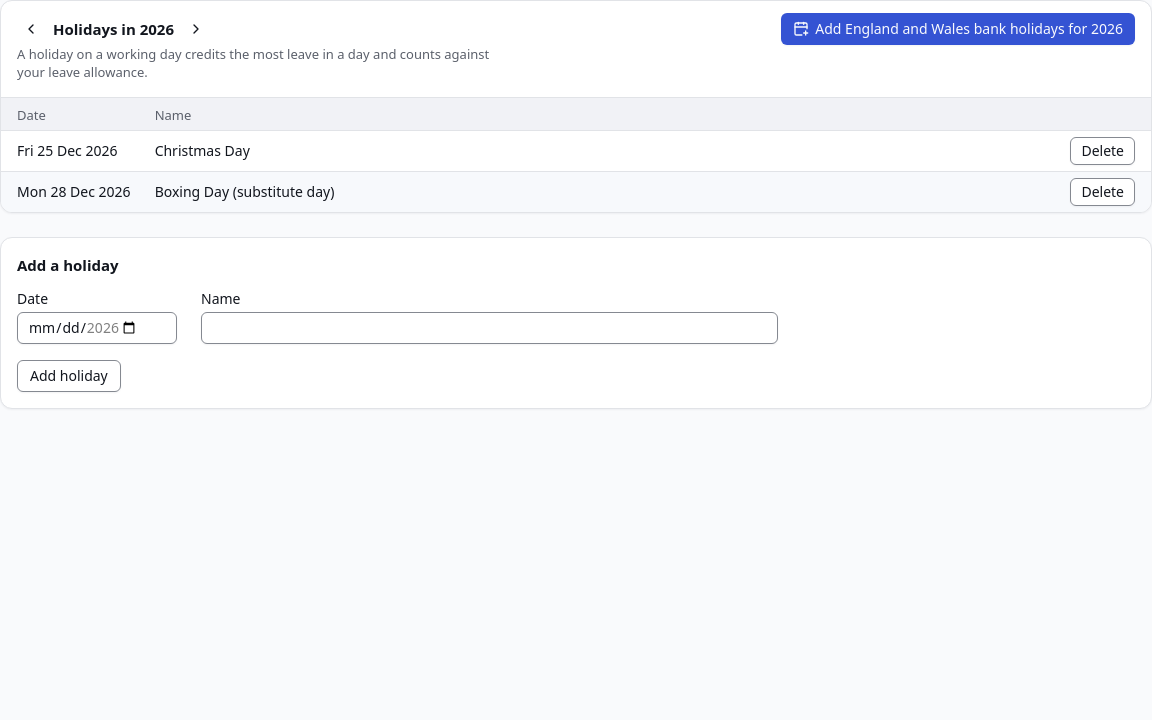
Test case: HolidaysTab › deletes a holiday with undo, and focuses the next row
The image size is (1152, 720).
Step 1. Click the button named "Delete Christmas Day" → click(1103, 150), box [1070,136,1135,164]
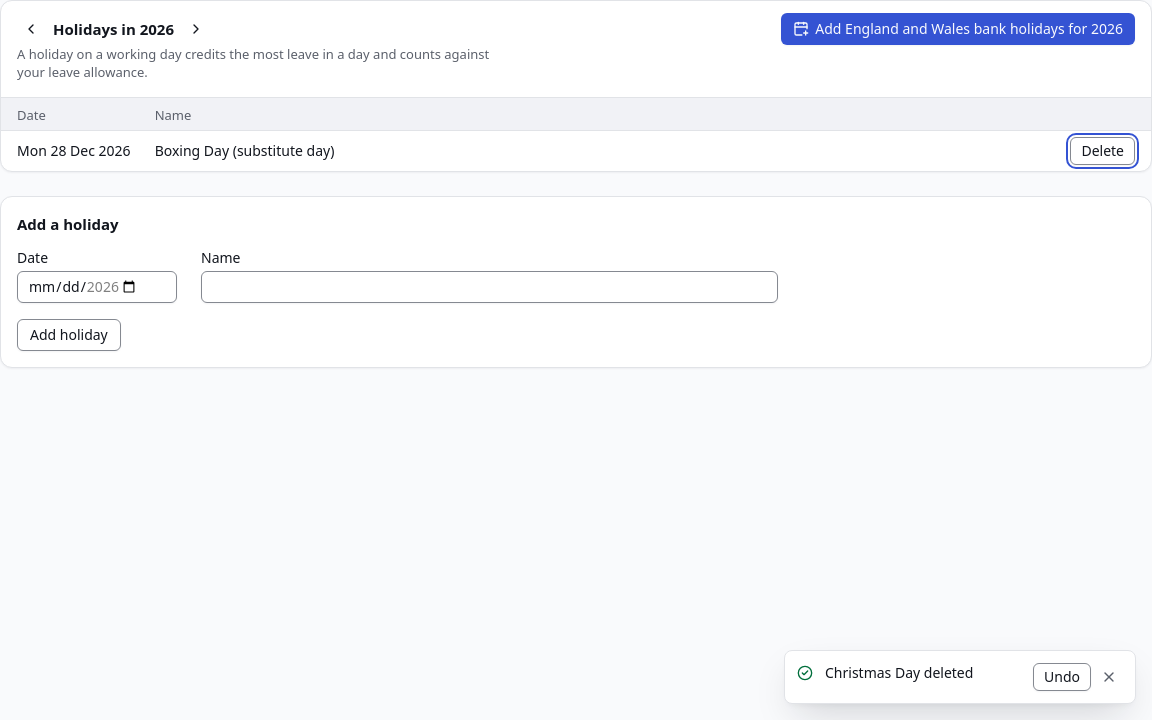
Expected: the text "Christmas Day deleted" is shown, [825,663,973,682]
Step 2. Click the button "Undo" → click(1062, 677), box [1033,663,1091,691]
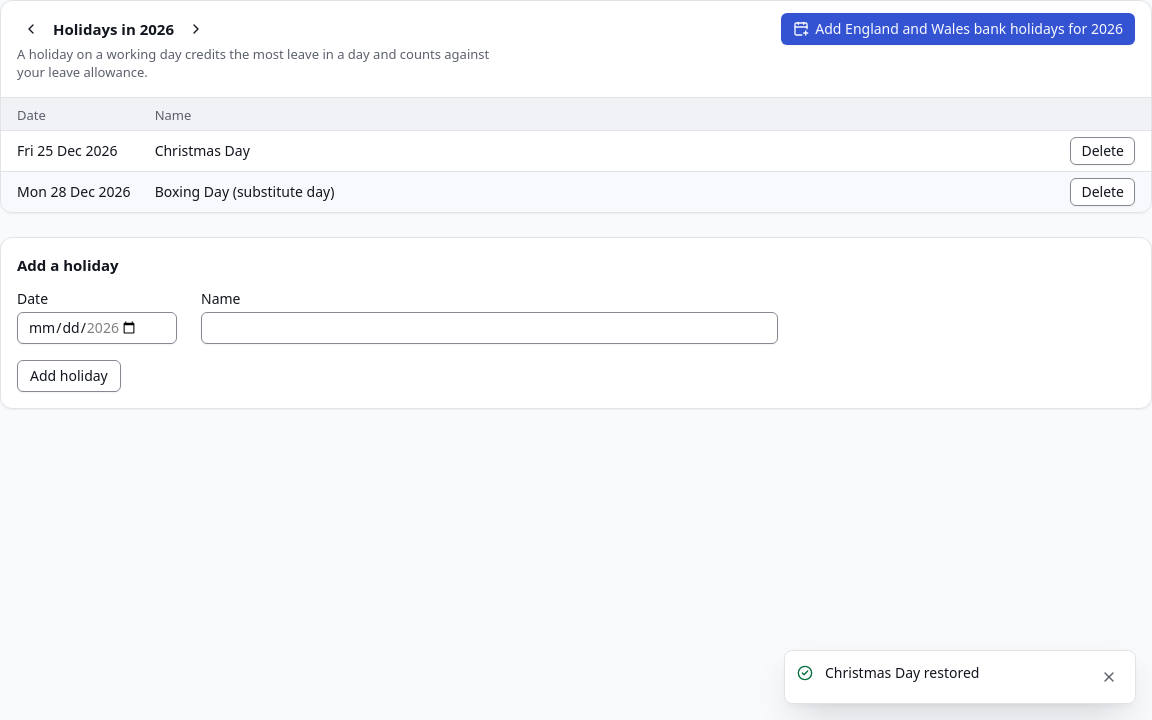
Expected: the button named "Delete Christmas Day" is shown, [1070,136,1135,164]
Expected: the text "Christmas Day restored" is shown, [825,663,979,682]
